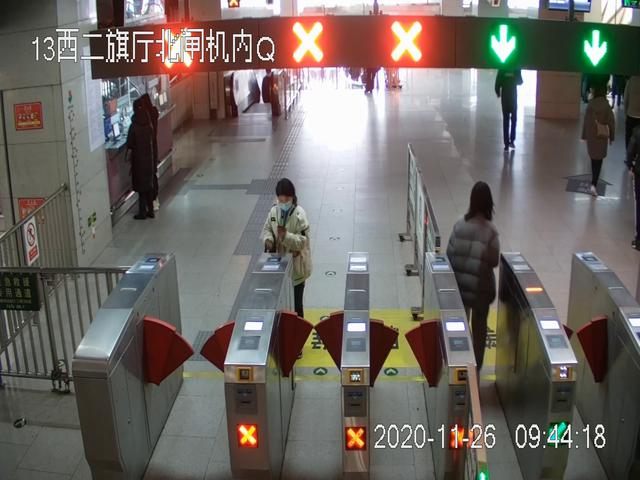person: (445, 183, 500, 381), (259, 179, 313, 346), (582, 86, 616, 199), (127, 96, 156, 223), (494, 69, 526, 154)
